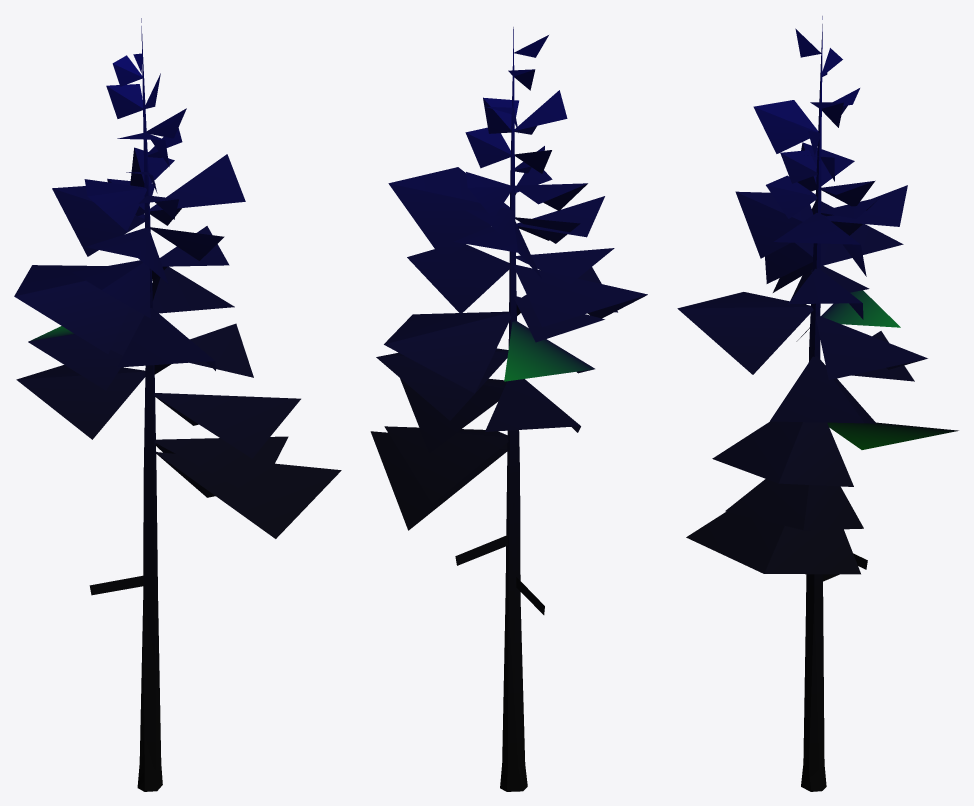
The model's file is Spruce singelsided.fbx.
The picture shows the model from 3 angles, left to right: view 1: azimuth 30°, elevation 25°; view 2: azimuth 150°, elevation 25°; view 3: azimuth 270°, elevation 25°; orthographic projection.
Parts seen in each view (by area): view 1: Leaves 1, Trunk; view 2: Leaves 1, Trunk; view 3: Leaves 1, Trunk.
Boxes of the visible parts, <box> form: Leaves 1: <box>14,53,341,595</box>; Trunk: <box>137,18,162,791</box>; Leaves 1: <box>370,35,647,614</box>; Trunk: <box>500,27,527,791</box>; Leaves 1: <box>677,28,958,581</box>; Trunk: <box>801,16,826,791</box>.
Bounding box in the file's own units: 763 × 1863 × 620.
